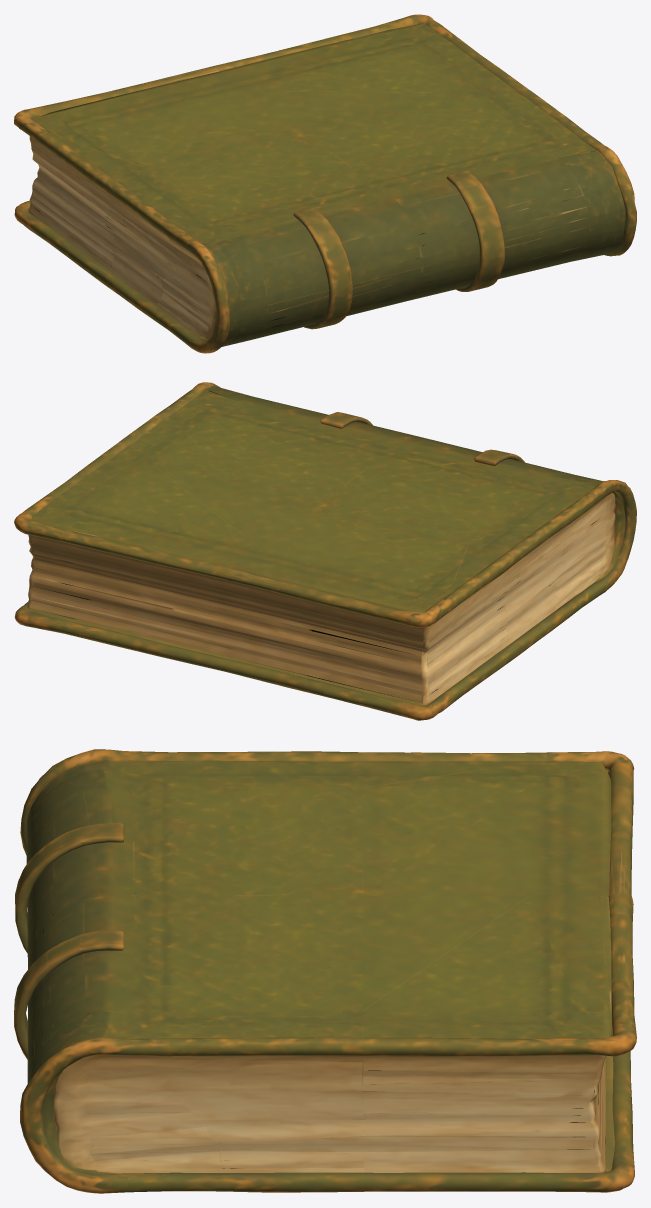
File: sumicio_libro.glb
3 renders of one model, top to bottom at view 1: azimuth 30°, elevation 25°; view 2: azimuth 150°, elevation 25°; view 3: azimuth 270°, elevation 25°, orthographic. The views are drawn at different scales.
Visible parts, largest first — view 1: Libro; view 2: Libro; view 3: Libro.
Part boxes in pixels (x1=…): Libro: x1=14, y1=14, x2=636, y2=353; Libro: x1=14, y1=382, x2=636, y2=720; Libro: x1=14, y1=749, x2=636, y2=1193.
Size of the model in its own units: 0.3 by 0.0752 by 0.2697.
Materials: 1 (1 with a texture image).
